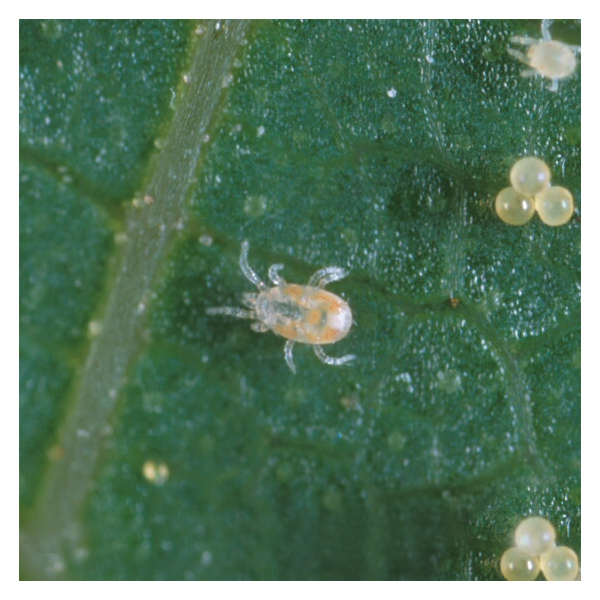Mites: (209, 235, 375, 402), (501, 22, 587, 115)
